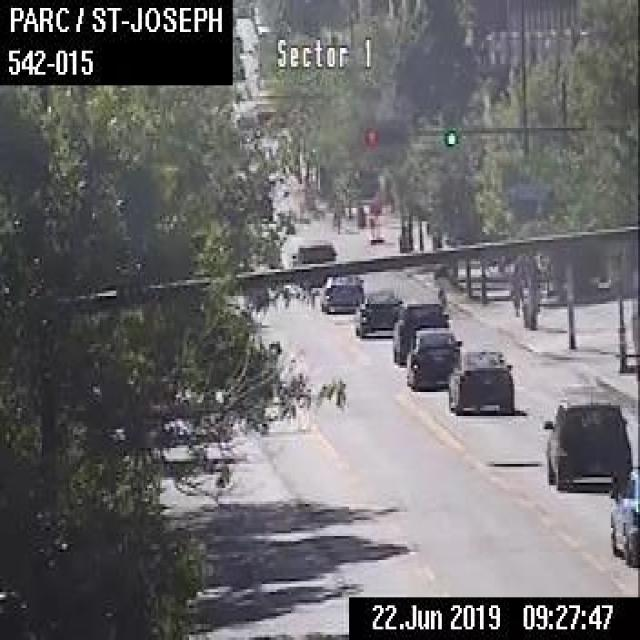vehicle: (541, 395, 631, 490), (446, 345, 513, 413), (391, 299, 450, 366), (403, 324, 462, 388), (610, 464, 638, 565), (352, 287, 402, 338), (318, 271, 363, 311), (291, 236, 336, 262)
